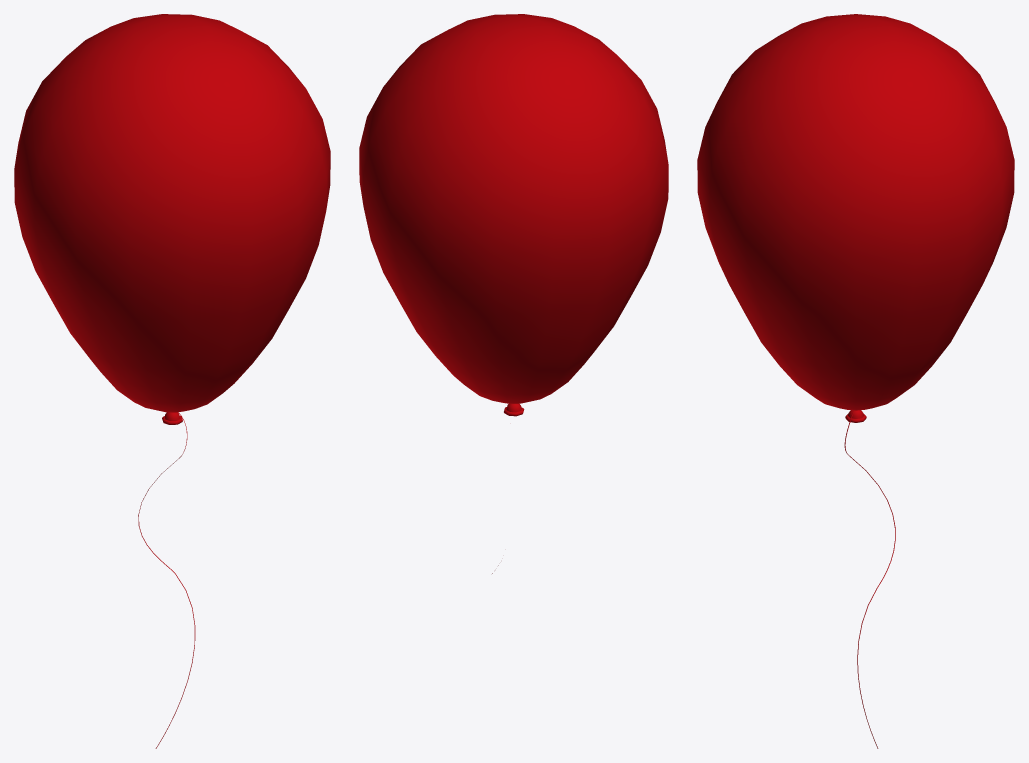
Rendered from balloon.glb.
The picture shows the model from 3 angles, left to right: view 1: azimuth 30°, elevation 25°; view 2: azimuth 150°, elevation 25°; view 3: azimuth 270°, elevation 25°; orthographic projection. The views are drawn at different scales.
Parts seen in each view (by area): view 1: Balloon.007; view 2: Balloon.007; view 3: Balloon.007.
Part boxes in pixels (left/top/right/bottom): Balloon.007: left=14, top=14, right=330, bottom=748; Balloon.007: left=359, top=14, right=668, bottom=573; Balloon.007: left=697, top=14, right=1014, bottom=748.
Size of the model in its own units: 0.2648 by 0.664 by 0.2648.
